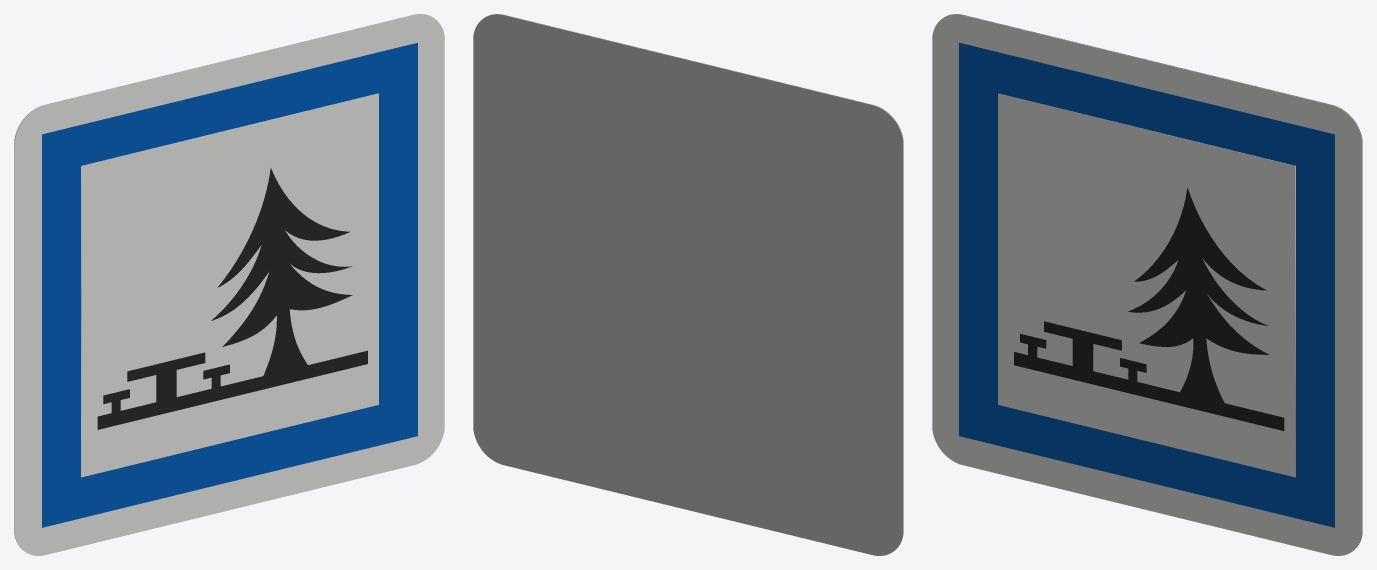
3 views of the same model, side by side, from view 1: azimuth 30°, elevation 25°; view 2: azimuth 150°, elevation 25°; view 3: azimuth 330°, elevation 25° (orthographic).
Parts seen in each view (by area): view 1: CE7_p02, CE7_p01, CE7_p00, CE7_p03, CE7_dos; view 2: CE7_dos, CE7_p00; view 3: CE7_p02, CE7_p01, CE7_p00, CE7_p03, CE7_dos.
Boxes of the visible parts, <box> form: CE7_p02: <box>81,93,378,477</box>; CE7_p01: <box>42,42,417,527</box>; CE7_p00: <box>14,14,444,555</box>; CE7_p03: <box>97,168,367,429</box>; CE7_dos: <box>14,14,431,547</box>; CE7_dos: <box>473,14,903,555</box>; CE7_p00: <box>486,14,903,547</box>; CE7_p02: <box>998,93,1295,477</box>; CE7_p01: <box>959,42,1334,527</box>; CE7_p00: <box>932,14,1362,555</box>; CE7_p03: <box>1014,188,1284,430</box>; CE7_dos: <box>945,14,1362,547</box>.
Size of the model in its own units: 0.7 by 0.6999 by 0.0031.
